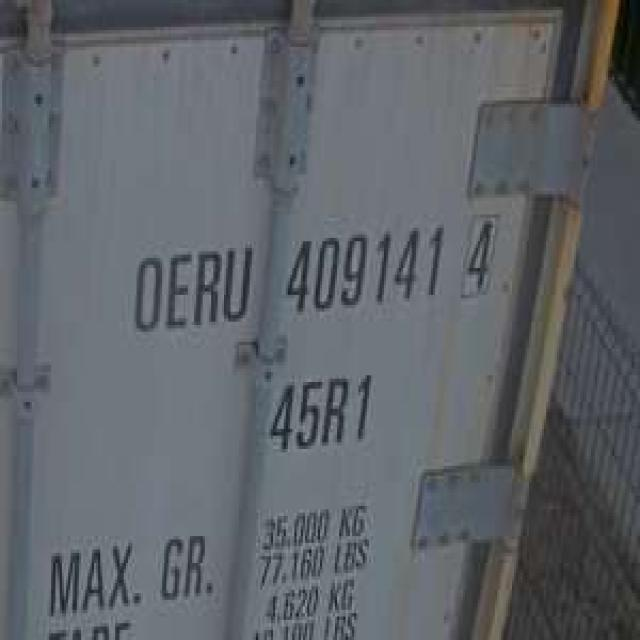dv: (457, 205, 504, 307)
owner: (128, 239, 254, 336)
serial: (284, 221, 449, 318)
size: (262, 366, 378, 454)
